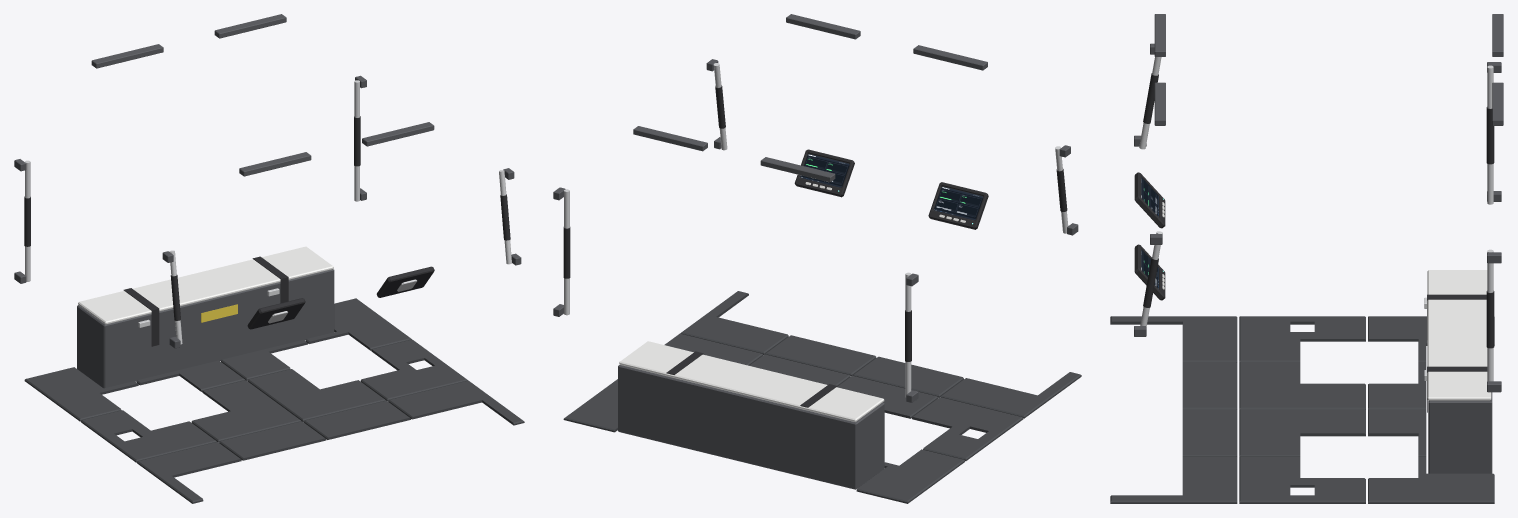
File: ax_rover_03_open_station_interior.glb
3 views of the same model, side by side, from view 1: azimuth 30°, elevation 25°; view 2: azimuth 150°, elevation 25°; view 3: azimuth 270°, elevation 25° (orthographic). The views are drawn at different scales.
Visible parts, largest first — view 1: rack_tool_stowage_body, rack_tool_stowage_lid, floor_tile_07, floor_tile_06, floor_tile_05, floor_tile_08, floor_tile_09, floor_tile_01, floor_tile_04, floor_tile_12, floor_tile_02, floor_tile_03 (+9 smaller); view 2: rack_tool_stowage_body, rack_tool_stowage_lid, floor_tile_05, floor_tile_09, floor_tile_01, floor_tile_04, floor_tile_03, floor_tile_02, floor_tile_06, floor_tile_12, floor_tile_07, floor_tile_08 (+8 smaller); view 3: rack_tool_stowage_lid, rack_tool_stowage_body, floor_tile_07, floor_tile_06, floor_tile_08, floor_tile_05, floor_tile_12, floor_tile_04, floor_tile_01, floor_tile_03, floor_tile_02, floor_tile_11 (+12 smaller).
Boxes of the visible parts, x1=… form: rack_tool_stowage_body: x1=77, y1=269, x2=334, y2=388; rack_tool_stowage_lid: x1=78, y1=246, x2=333, y2=324; floor_tile_07: x1=247, y1=369, x2=385, y2=421; floor_tile_06: x1=191, y1=380, x2=301, y2=442; floor_tile_05: x1=81, y1=410, x2=216, y2=462; floor_tile_08: x1=360, y1=339, x2=467, y2=401; floor_tile_09: x1=24, y1=367, x2=138, y2=421; floor_tile_01: x1=137, y1=442, x2=241, y2=503; floor_tile_04: x1=388, y1=380, x2=524, y2=425; floor_tile_12: x1=305, y1=298, x2=411, y2=350; floor_tile_02: x1=219, y1=421, x2=326, y2=460; floor_tile_03: x1=303, y1=400, x2=410, y2=439; rack_tool_stowage_body: x1=618, y1=365, x2=884, y2=489; rack_tool_stowage_lid: x1=619, y1=341, x2=884, y2=422; floor_tile_05: x1=912, y1=397, x2=1023, y2=461; floor_tile_09: x1=856, y1=449, x2=964, y2=503; floor_tile_01: x1=941, y1=372, x2=1081, y2=418; floor_tile_04: x1=680, y1=291, x2=788, y2=354; floor_tile_03: x1=765, y1=335, x2=876, y2=376; floor_tile_02: x1=853, y1=356, x2=963, y2=397; floor_tile_06: x1=837, y1=375, x2=938, y2=418; floor_tile_12: x1=563, y1=379, x2=617, y2=432; floor_tile_07: x1=749, y1=354, x2=850, y2=386; floor_tile_08: x1=664, y1=333, x2=763, y2=365; rack_tool_stowage_lid: x1=1427, y1=270, x2=1491, y2=400; rack_tool_stowage_body: x1=1428, y1=392, x2=1492, y2=473; floor_tile_07: x1=1239, y1=409, x2=1365, y2=456; floor_tile_06: x1=1239, y1=362, x2=1365, y2=409; floor_tile_08: x1=1239, y1=456, x2=1365, y2=503; floor_tile_05: x1=1239, y1=316, x2=1365, y2=362; floor_tile_12: x1=1368, y1=456, x2=1494, y2=503; floor_tile_04: x1=1110, y1=456, x2=1237, y2=503; floor_tile_01: x1=1110, y1=316, x2=1237, y2=362; floor_tile_03: x1=1182, y1=409, x2=1237, y2=456; floor_tile_02: x1=1182, y1=362, x2=1237, y2=409; floor_tile_11: x1=1368, y1=409, x2=1426, y2=456.
Bounding box in the file's own units: 2.26 × 1.87 × 1.94.
12 materials, 1 textured.
